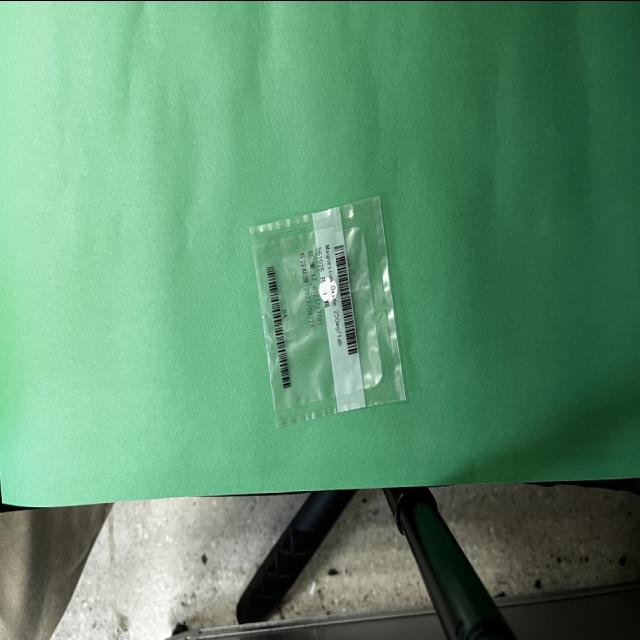Other Objects: (250, 196, 406, 427)
